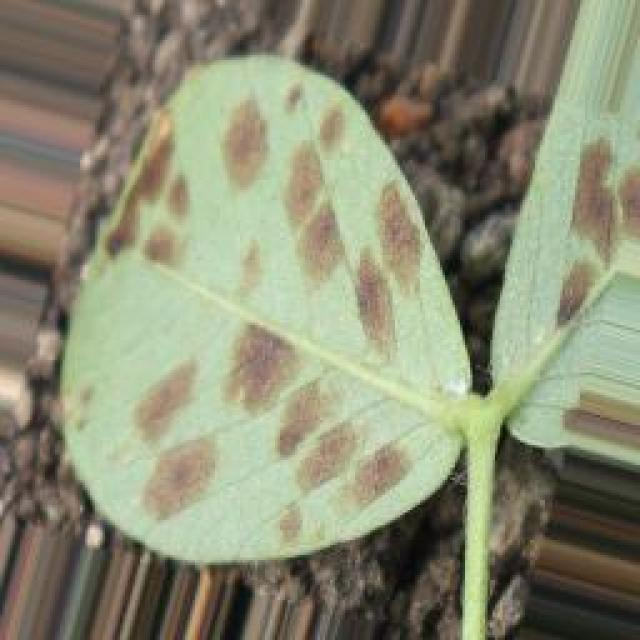Whitefly: (75, 57, 627, 544)
